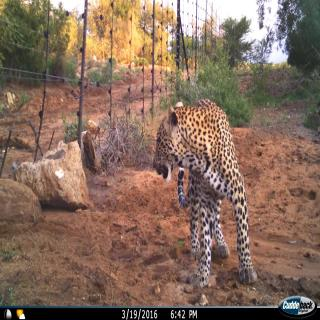Leopard: (139, 89, 277, 285)
